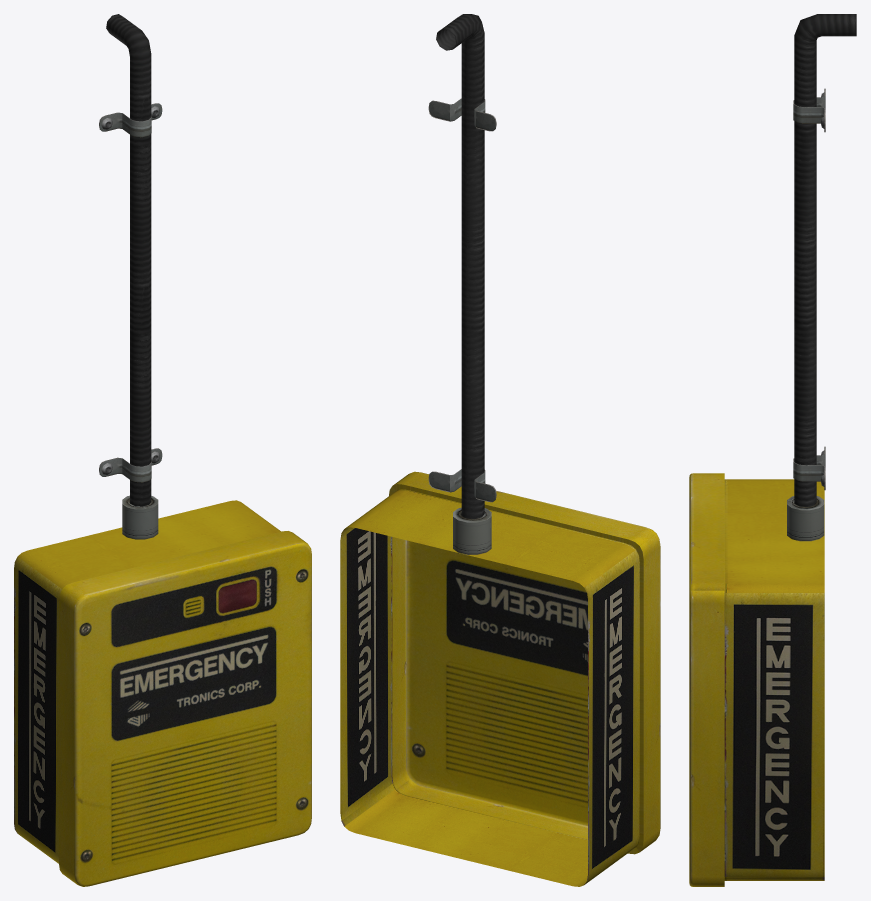
The model's file is emergency_box-1.FBX.
The picture shows the model from 3 angles, left to right: view 1: azimuth 30°, elevation 25°; view 2: azimuth 150°, elevation 25°; view 3: azimuth 270°, elevation 25°; orthographic projection. The views are drawn at different scales.
Visible parts, largest first — view 1: emergency_box-1_LOD0; view 2: emergency_box-1_LOD0; view 3: emergency_box-1_LOD0.
Boxes of the visible parts, <box> form: emergency_box-1_LOD0: <box>14,14,311,886</box>; emergency_box-1_LOD0: <box>340,14,660,886</box>; emergency_box-1_LOD0: <box>689,14,856,886</box>.
Size of what is drawn, in the model's own units: 11.89 by 37.74 by 7.
